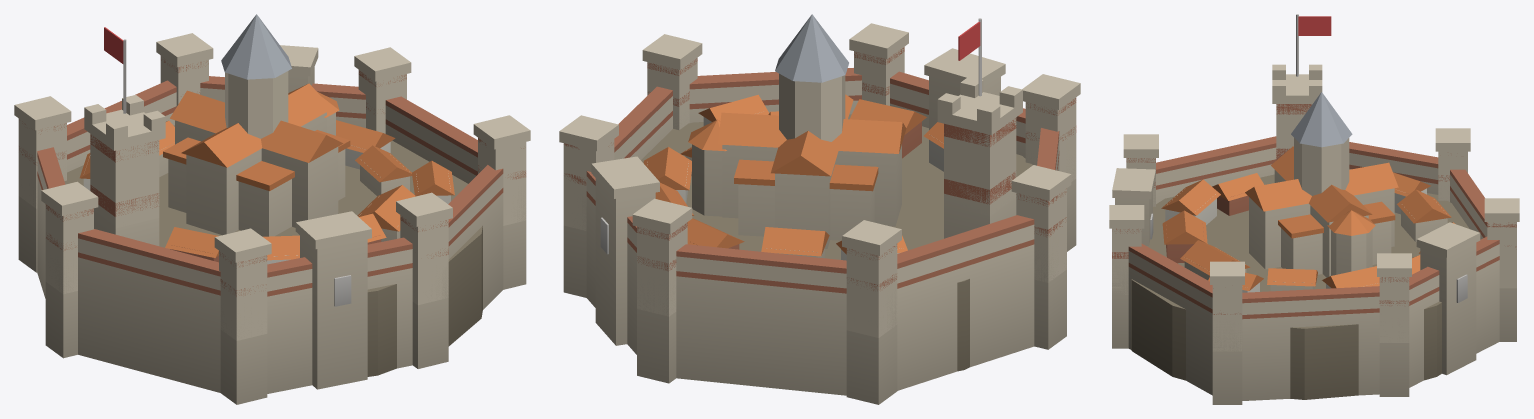
The model's file is town_byz_b.glb.
The picture shows the model from 3 angles, left to right: view 1: azimuth 30°, elevation 25°; view 2: azimuth 150°, elevation 25°; view 3: azimuth 270°, elevation 25°; orthographic projection. The views are drawn at different scales.
Visible parts, largest first — view 1: town_byz_b, Cube.084, Cube.051, Cube.064, Cube.041, Cube.031, Cube.074, Cube.008, Cube.021; view 2: town_byz_b, Cube.031, Cube.021, Cube.084, Cube.041, Cube.051, Cube.008, Cube.064, Cube.074; view 3: town_byz_b, Cube.074, Cube.008, Cube.021, Cube.064, Cube.084, Cube.031, Cube.051.
Part boxes in pixels (x1,y1,x2,y2): town_byz_b: (14,14,530,404); Cube.084: (90,134,159,228); Cube.051: (219,251,267,340); Cube.064: (400,215,448,305); Cube.041: (45,205,93,294); Cube.031: (18,119,66,208); Cube.074: (478,138,526,225); Cube.008: (358,70,406,133); Cube.021: (160,56,208,106); town_byz_b: (559,14,1080,404); Cube.031: (846,244,897,337); Cube.021: (637,223,687,316); Cube.084: (944,117,1016,216); Cube.041: (1016,188,1066,282); Cube.051: (1025,98,1076,181); Cube.008: (563,139,614,230); Cube.064: (854,47,904,105); Cube.074: (647,58,697,129); town_byz_b: (1109,14,1519,404); Cube.074: (1212,285,1242,351); Cube.008: (1379,277,1409,342); Cube.021: (1487,222,1516,288); Cube.064: (1112,228,1141,294); Cube.084: (1276,104,1312,158); Cube.031: (1438,151,1467,201); Cube.051: (1126,158,1155,206).
Bounding box in the file's own units: 1.96 × 1.28 × 1.93.
